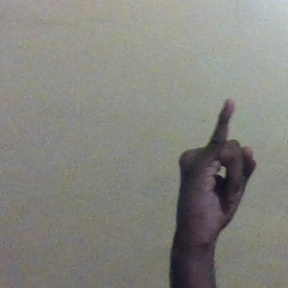I: (176, 97, 259, 232)
